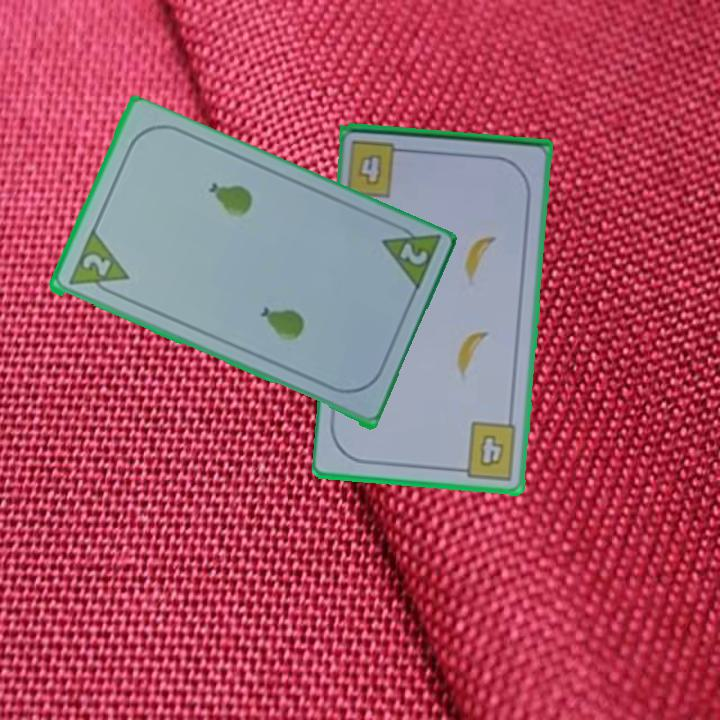2p: (377, 218, 443, 297), (78, 250, 113, 280)
4b: (452, 418, 520, 483), (343, 136, 412, 200)
